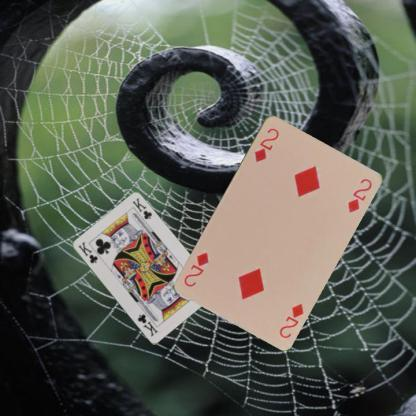2d: (251, 124, 280, 164), (276, 300, 305, 340)
Kc: (75, 239, 99, 265)
